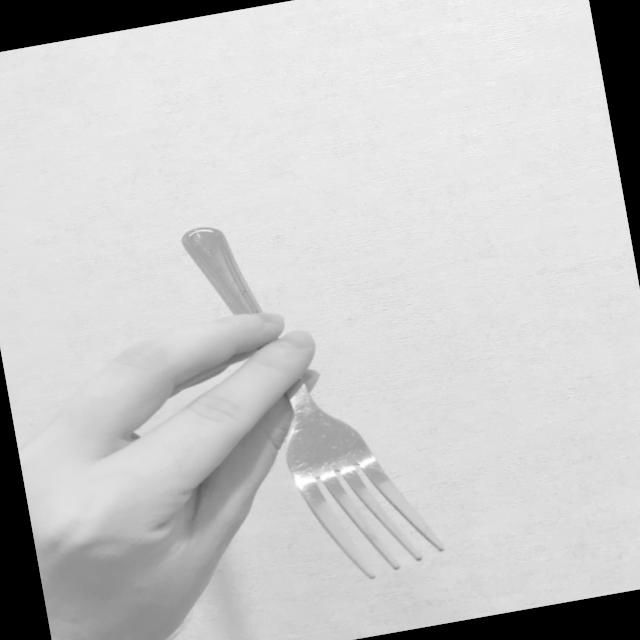fork: (180, 195, 450, 605)
